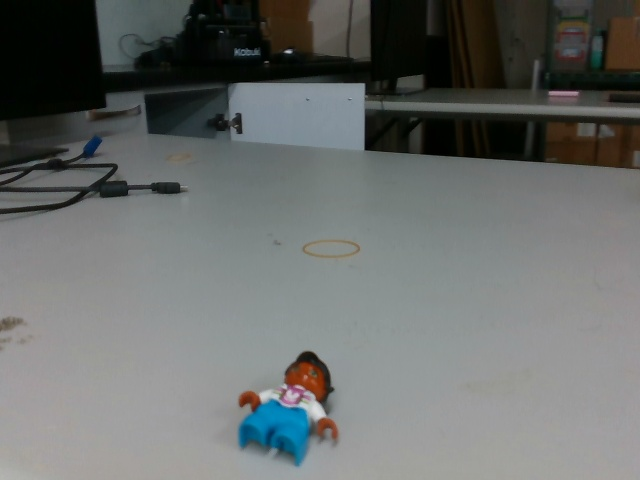people: (235, 345, 344, 465)
